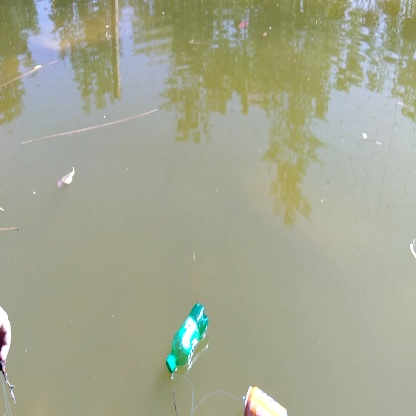bottle: (168, 296, 214, 379)
